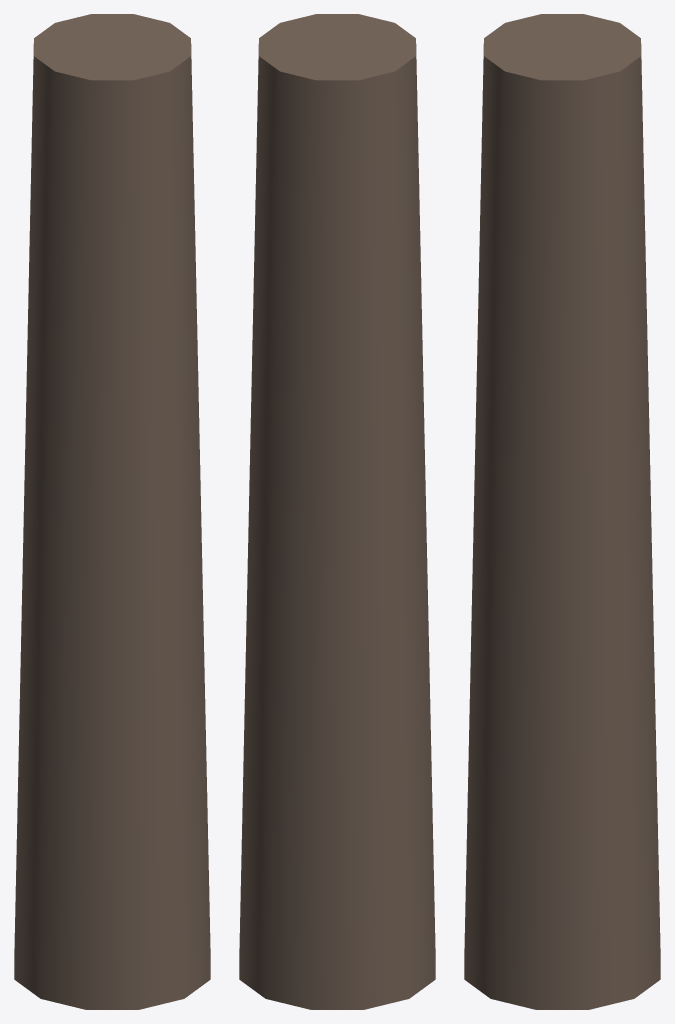
The model's file is fractaltree1_0.glb.
The picture shows the model from 3 angles, left to right: view 1: azimuth 30°, elevation 25°; view 2: azimuth 150°, elevation 25°; view 3: azimuth 270°, elevation 25°; orthographic projection.
Bounding box in the file's own units: 0.6085 × 3.15 × 0.6085.
